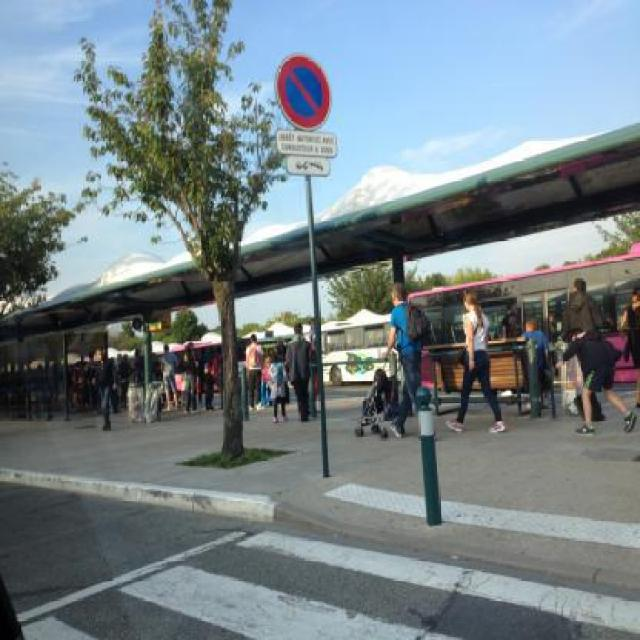Person: (552, 318, 638, 436), (448, 290, 504, 435), (380, 287, 426, 438), (10, 364, 87, 418), (282, 321, 318, 419), (519, 315, 558, 402), (559, 279, 606, 344), (87, 346, 118, 431), (612, 288, 638, 384), (112, 348, 146, 402), (243, 330, 266, 408), (268, 352, 290, 419), (156, 343, 178, 403), (180, 339, 195, 410), (499, 301, 523, 344), (208, 346, 224, 408), (198, 347, 211, 408)
